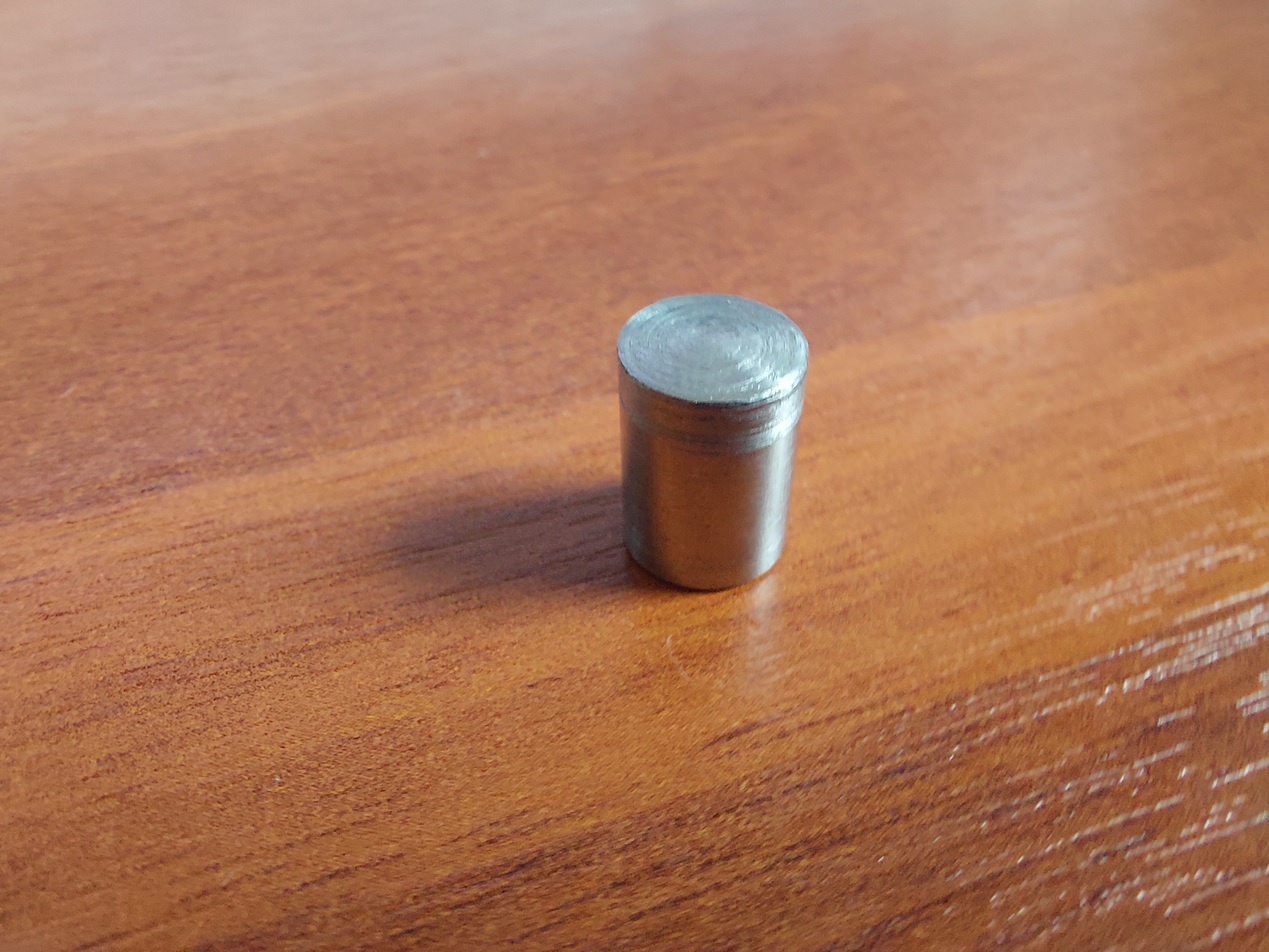tablet: (620, 289, 808, 595)
